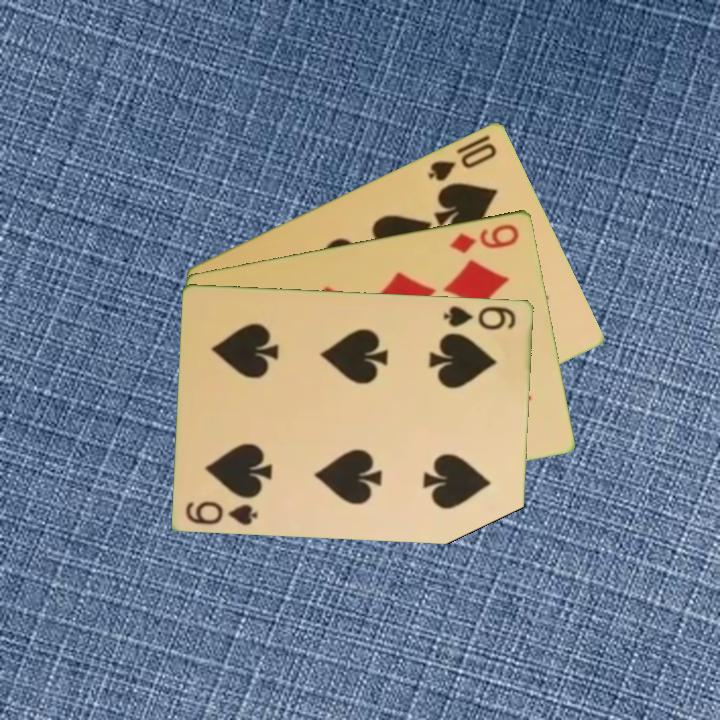10s: (424, 138, 500, 184)
6s: (182, 497, 261, 528), (441, 302, 519, 332)
9d: (446, 220, 522, 256)
